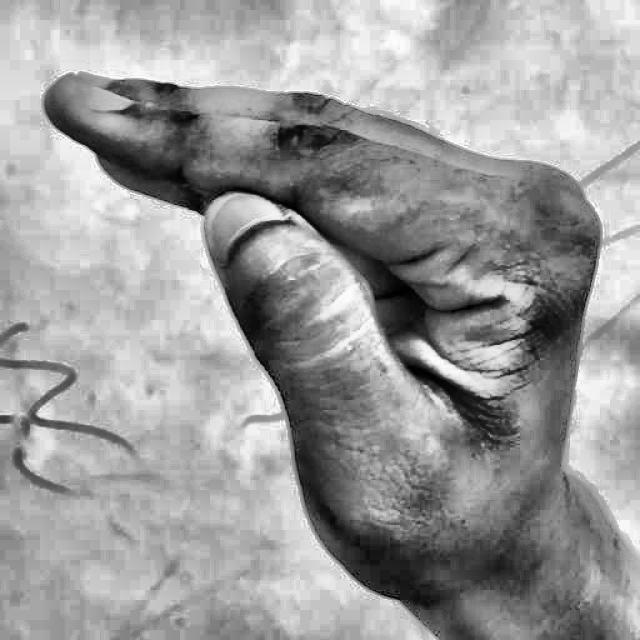Ga: (26, 46, 612, 611)
